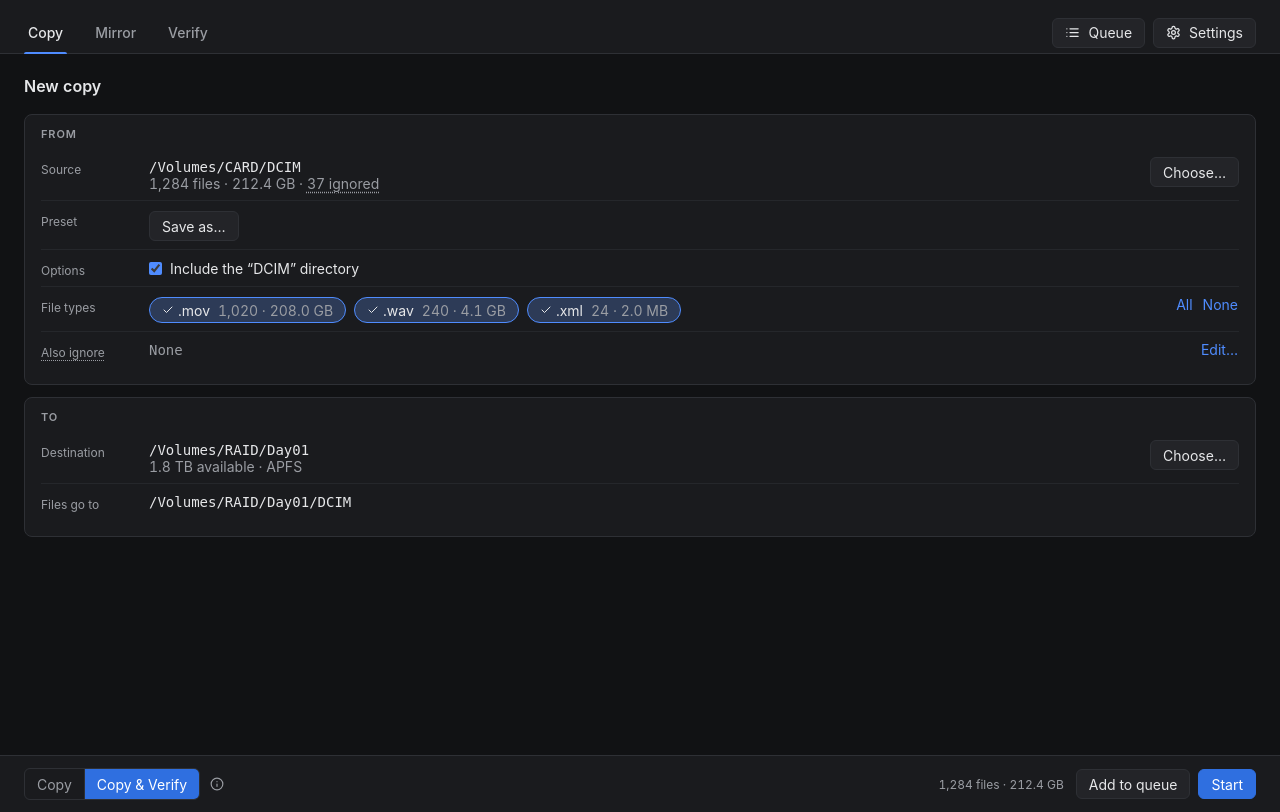
App › Start refused because the destination changed shows it as it is now
The width and height of the screenshot is (1280, 812).
Step 1. Click the button "Start" → (1227, 784), box [1198, 769, 1256, 799]
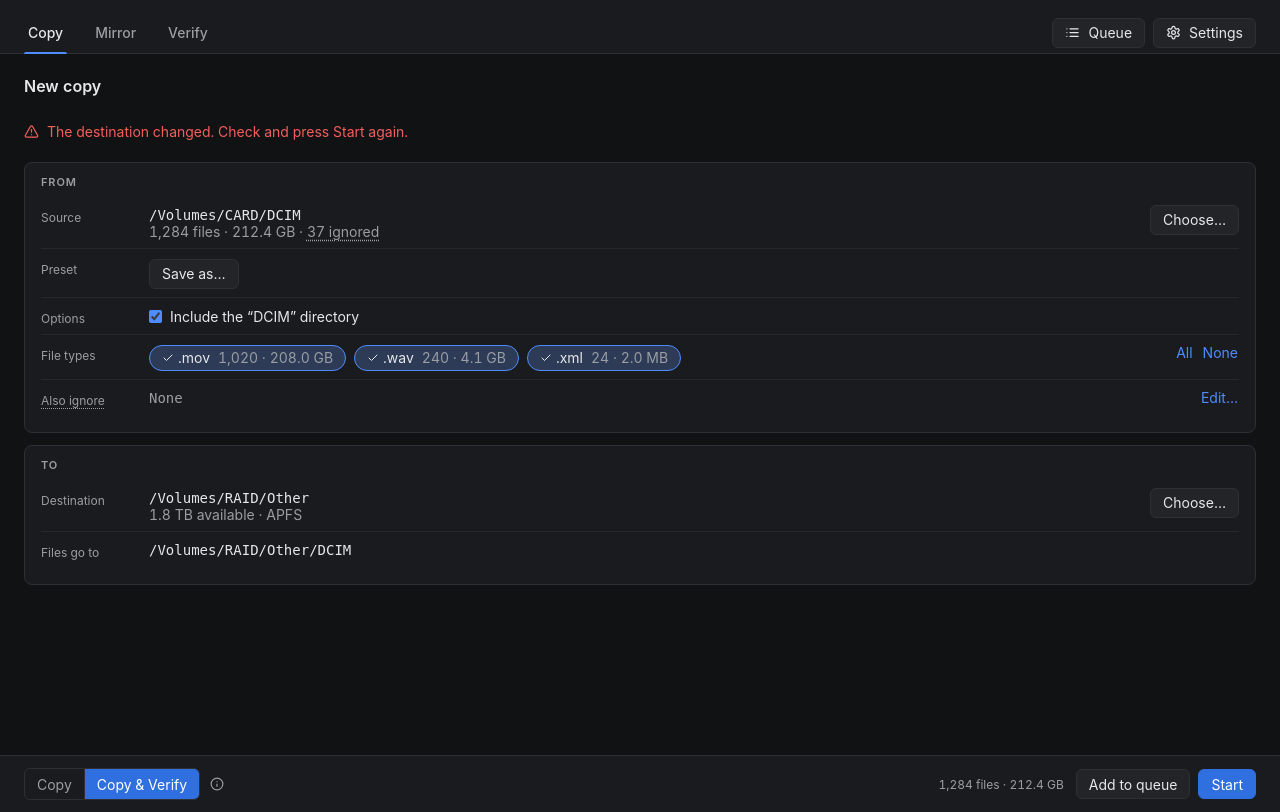
Expected: the text "The destination changed. Check and press Start again." is shown, [47, 122, 408, 142]
Expected: the text "/Volumes/RAID/Other" is shown, [149, 490, 309, 506]
